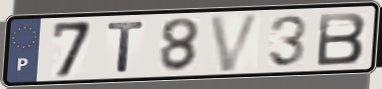3: (267, 14, 309, 68)
7: (50, 20, 93, 79)
8: (159, 16, 201, 74)
B: (315, 10, 369, 68)
T: (105, 20, 148, 74)
V: (207, 12, 264, 74)
